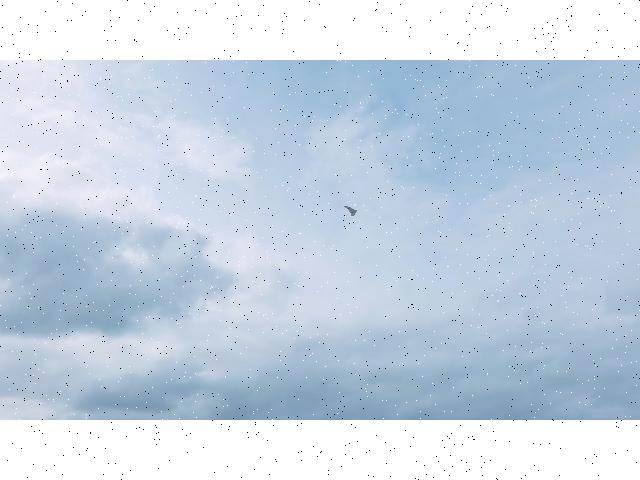Anti-Drone: (342, 203, 360, 218)
